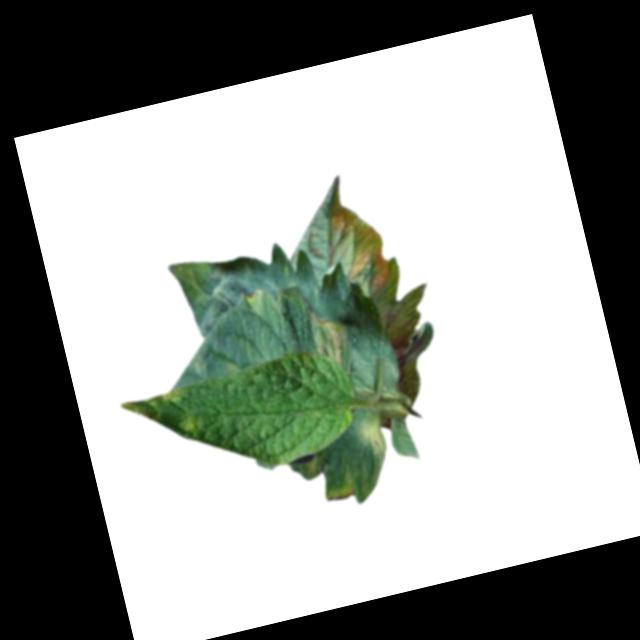Leaf_Mold: (319, 195, 395, 301), (301, 306, 350, 370), (347, 409, 389, 457), (318, 468, 357, 505), (236, 283, 268, 315), (161, 385, 186, 405)
